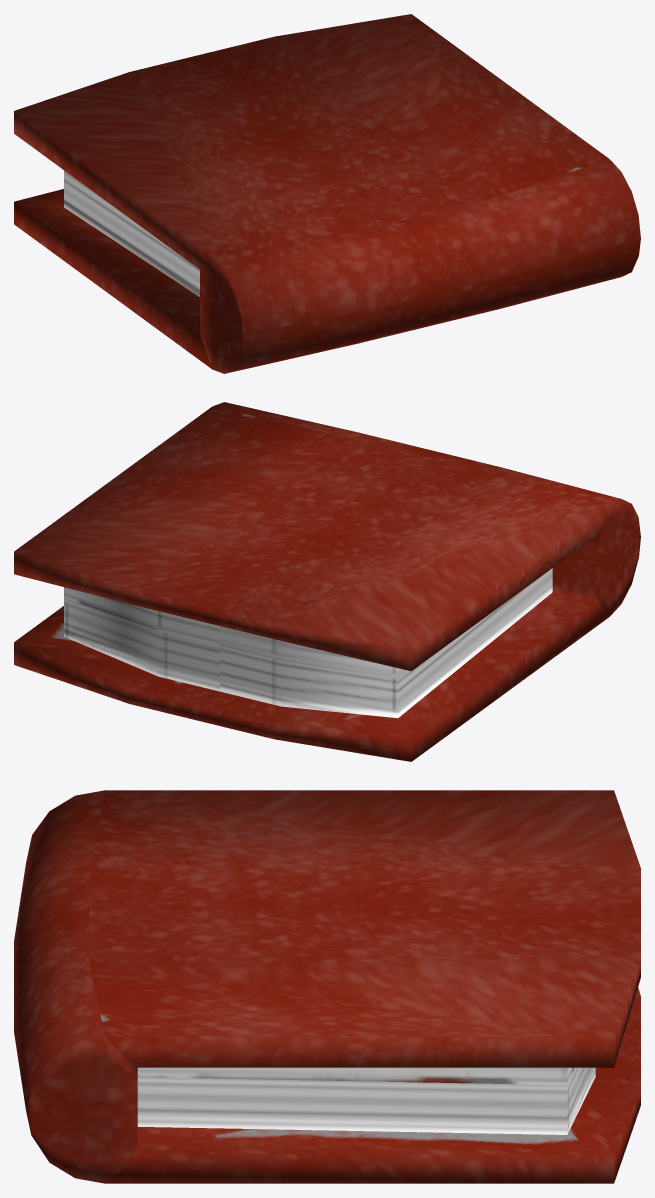
The model's file is Livro.fbx.
3 renders of one model, top to bottom at view 1: azimuth 30°, elevation 25°; view 2: azimuth 150°, elevation 25°; view 3: azimuth 270°, elevation 25°, orthographic. The views are drawn at different scales.
Visible parts, largest first — view 1: Livro; view 2: Livro; view 3: Livro.
Boxes of the visible parts, x1,y1,x2,y2 form: Livro: (14,14,640,373); Livro: (14,402,640,761); Livro: (14,790,640,1183).
Bounding box in the file's own units: 200 × 55.01 × 213.
